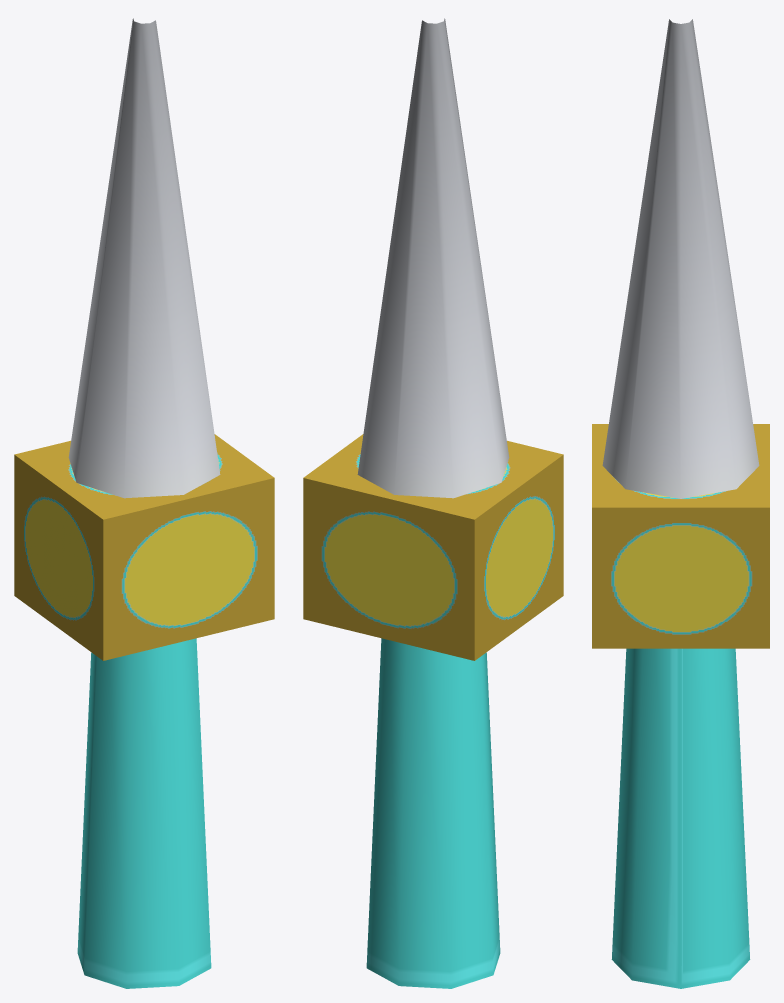
The model's file is weapon_mirror_blade.glb.
3 views of the same model, side by side, from view 1: azimuth 30°, elevation 25°; view 2: azimuth 150°, elevation 25°; view 3: azimuth 270°, elevation 25° (orthographic).
Visible parts, largest first — view 1: weapon_mirror_blade; view 2: weapon_mirror_blade; view 3: weapon_mirror_blade.
Boxes of the visible parts, left/top/right/bottom form: weapon_mirror_blade: left=14, top=18, right=274, bottom=988; weapon_mirror_blade: left=303, top=18, right=563, bottom=988; weapon_mirror_blade: left=592, top=19, right=769, bottom=988.
Size of the model in its own units: 0.2 by 1.05 by 0.18.
Materials: 1 (1 with a texture image).
